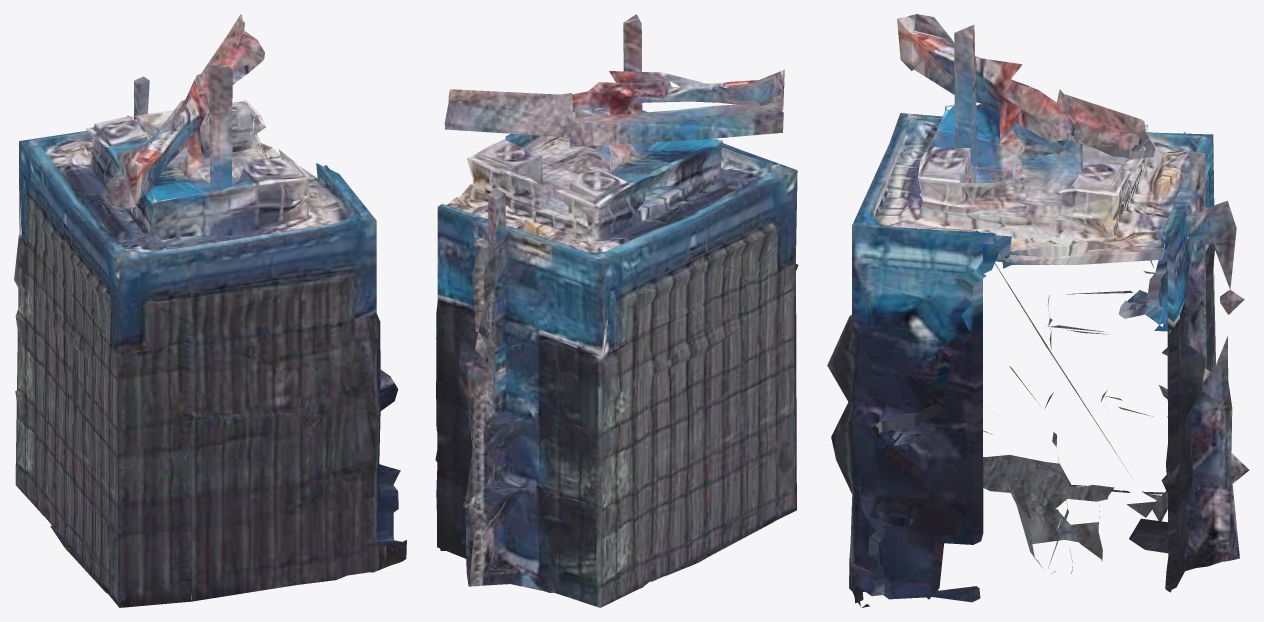
3 renders of one model, left to right at view 1: azimuth 30°, elevation 25°; view 2: azimuth 150°, elevation 25°; view 3: azimuth 270°, elevation 25°, orthographic. The views are drawn at different scales.
Parts seen in each view (by area): view 1: Mesh_0; view 2: Mesh_0; view 3: Mesh_0.
Part boxes in pixels (x1,y1,x2,y2): Mesh_0: (14, 14, 406, 607); Mesh_0: (435, 14, 798, 607); Mesh_0: (827, 14, 1249, 607).
Bounding box in the file's own units: 20.3 × 35.12 × 26.19.
2 materials, 2 textured.
